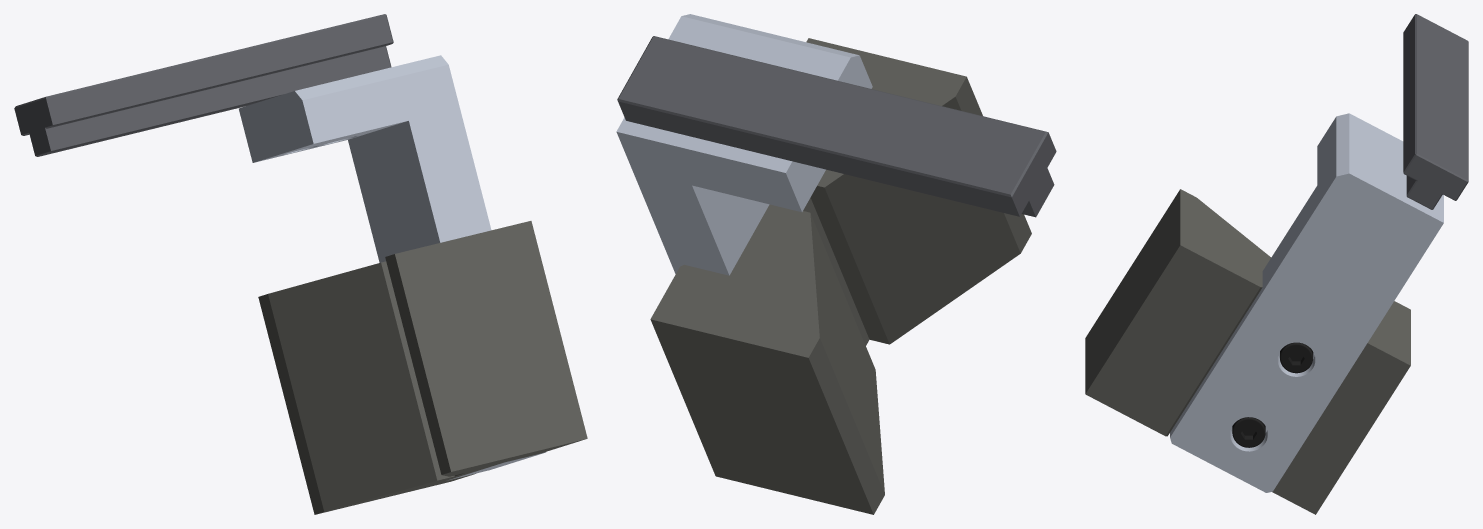
Rendered from gripper_left.dae.
3 views of the same model, side by side, from view 1: azimuth 30°, elevation 25°; view 2: azimuth 150°, elevation 25°; view 3: azimuth 270°, elevation 25° (orthographic). The views are drawn at different scales.
Parts seen in each view (by area): view 1: Body1.2198; view 2: Body1.2198; view 3: Body1.2198.
Part boxes in pixels (<box>): Body1.2198: <box>14,14,587,514</box>; Body1.2198: <box>616,14,1056,514</box>; Body1.2198: <box>1085,14,1468,514</box>.
Bounding box in the file's own units: 0.073 × 0.0807 × 0.0833.
